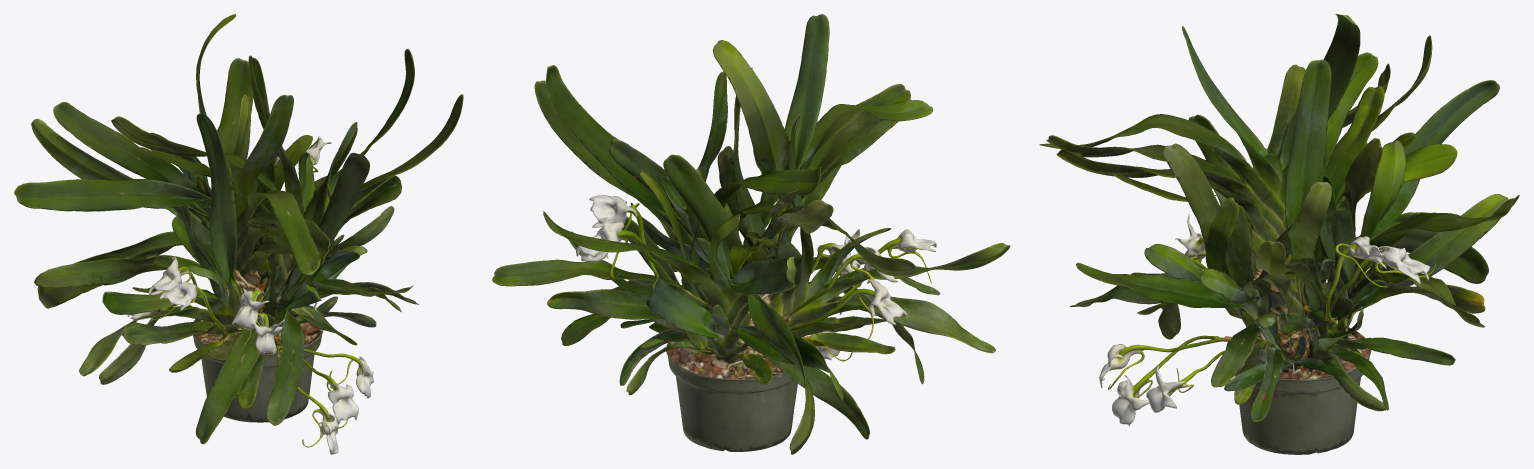
The model's file is snow-white.glb.
3 renders of one model, left to right at view 1: azimuth 30°, elevation 25°; view 2: azimuth 150°, elevation 25°; view 3: azimuth 270°, elevation 25°, orthographic. The views are drawn at different scales.
Size of the model in its own units: 0.7133 by 0.6333 by 0.6647.
Materials: 1 (1 with a texture image).
